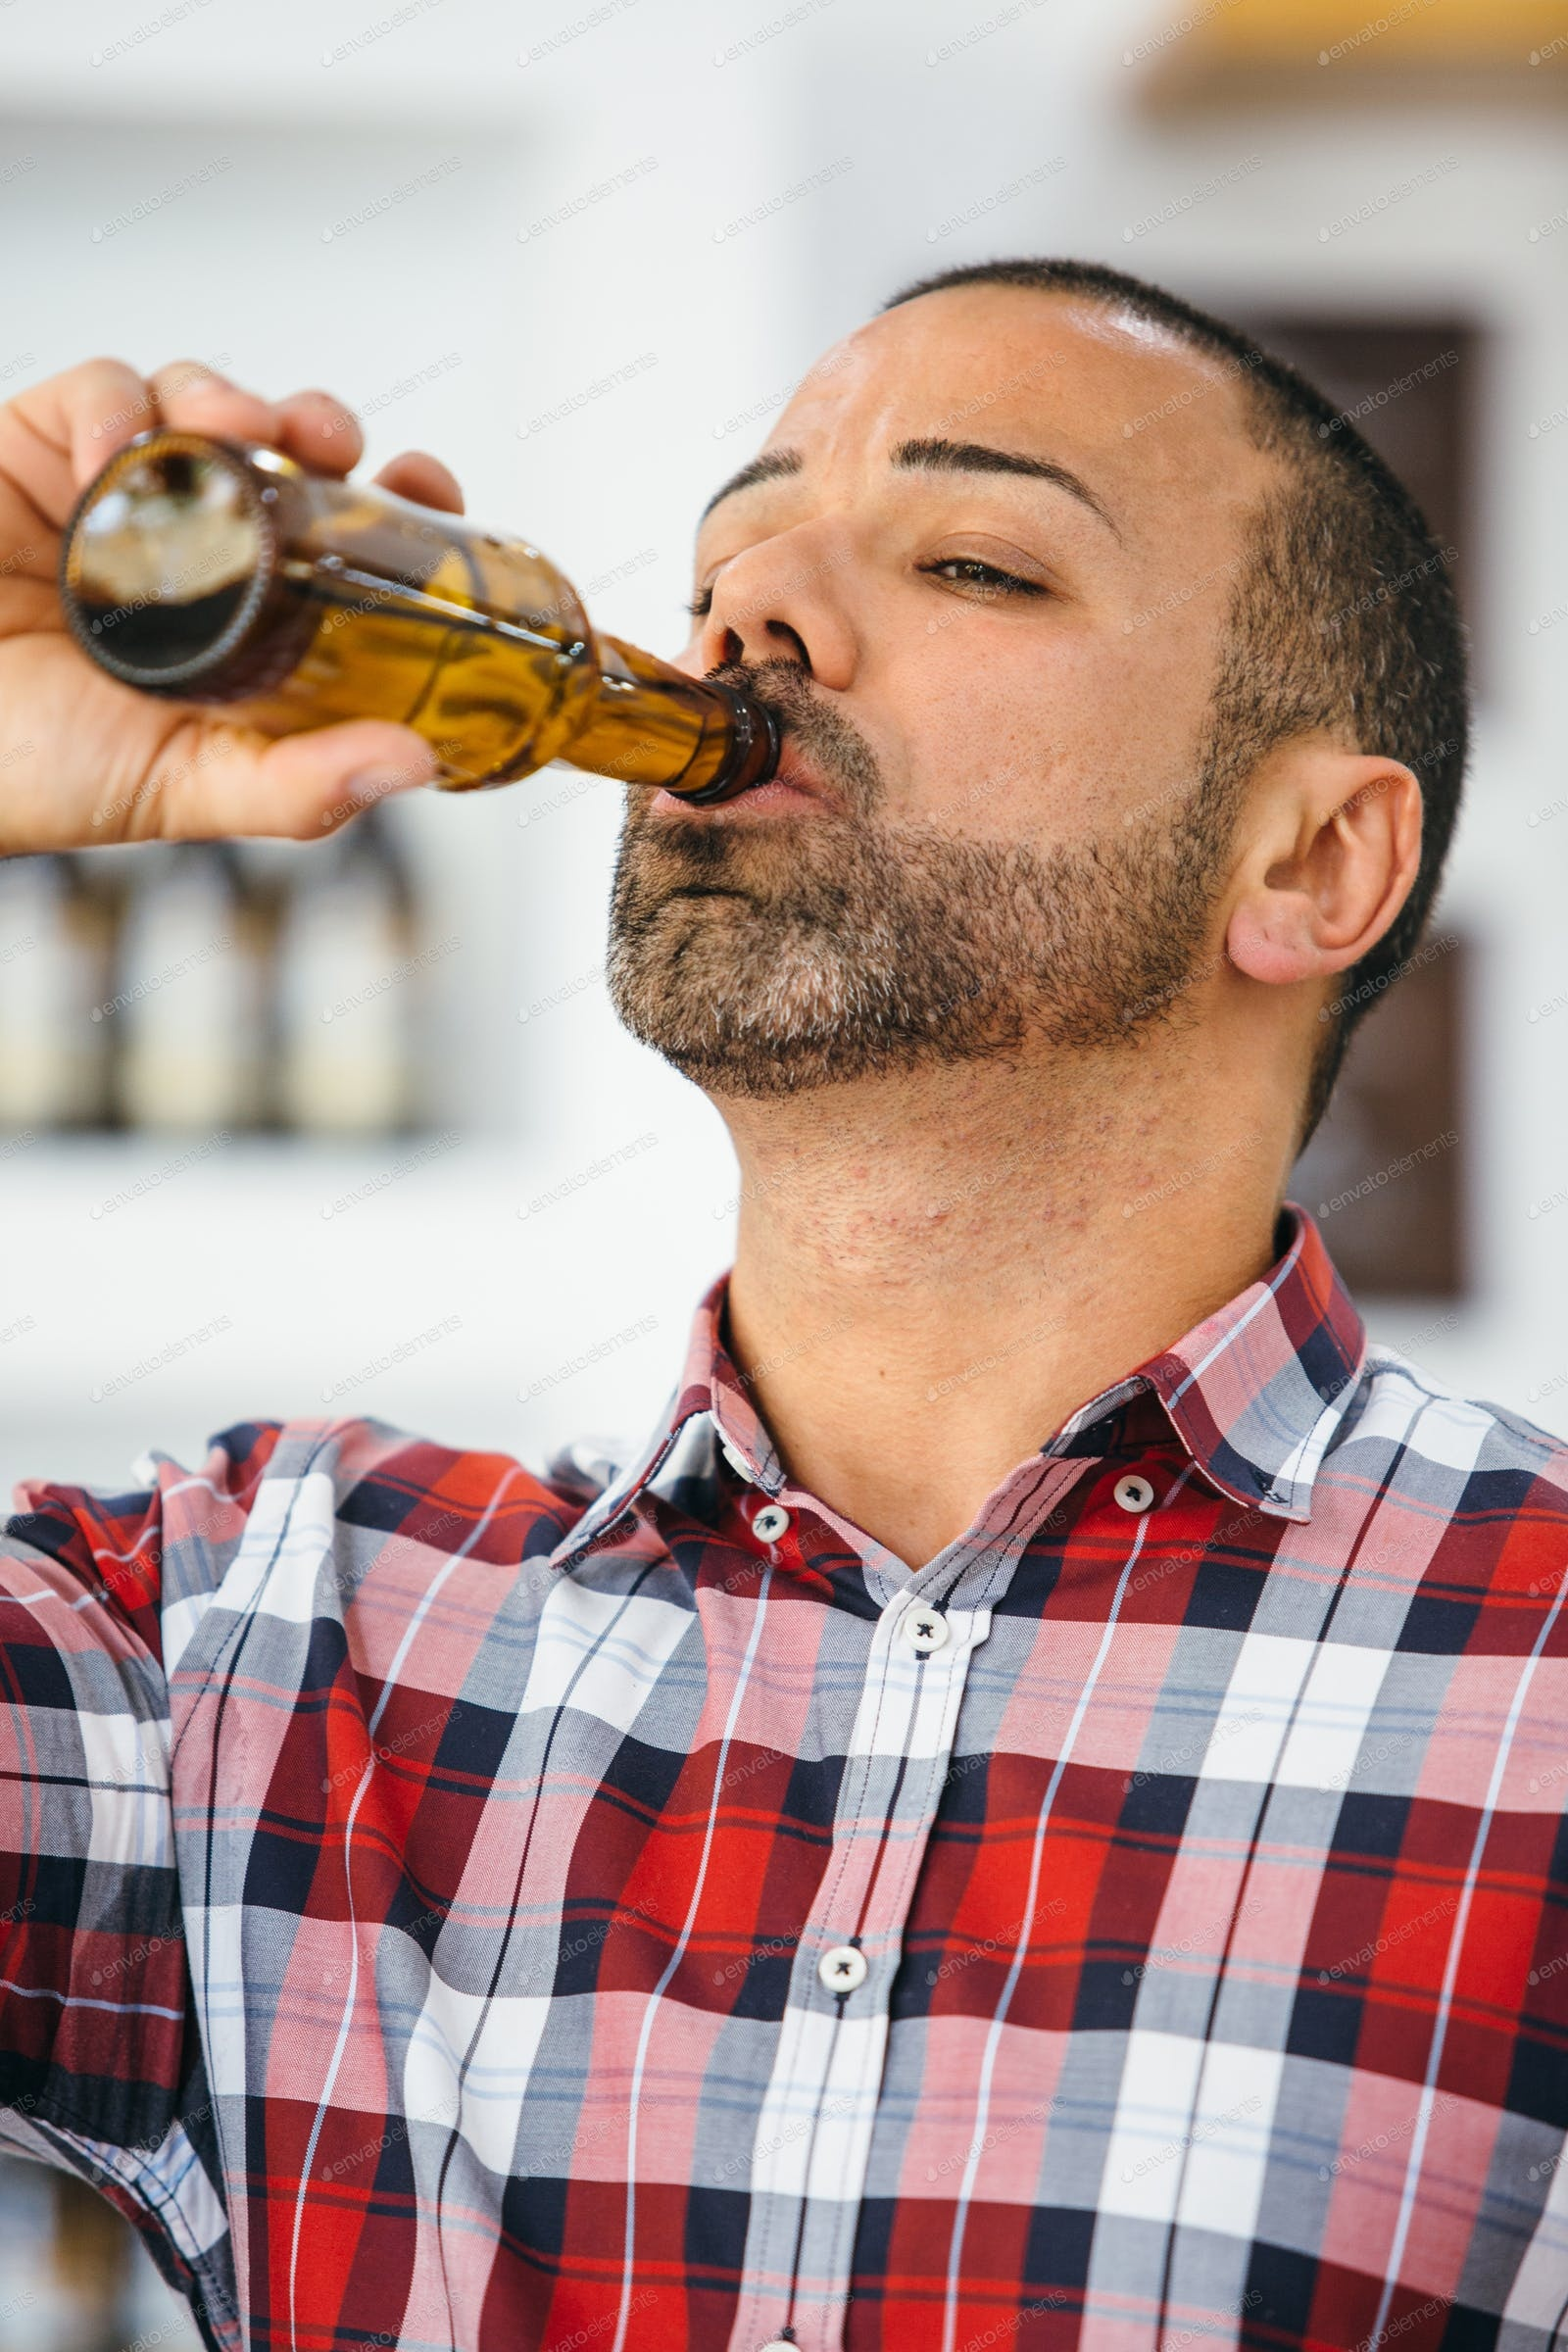beerBottle: (47, 467, 786, 808)
